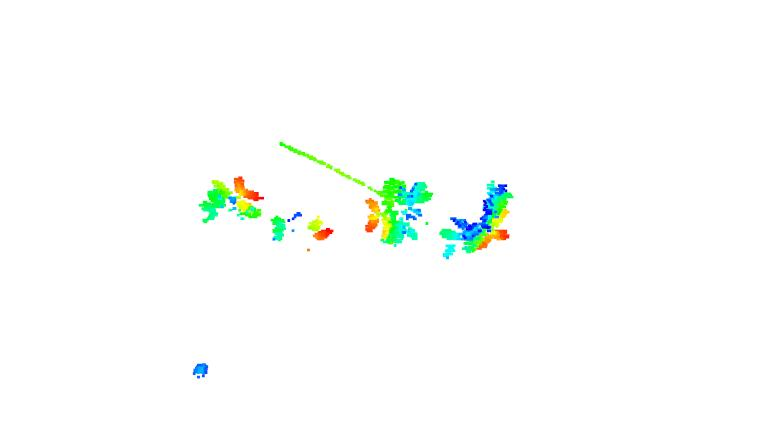chickpea: (439, 182, 512, 265), (365, 179, 435, 245), (192, 172, 266, 232), (272, 207, 335, 253)
